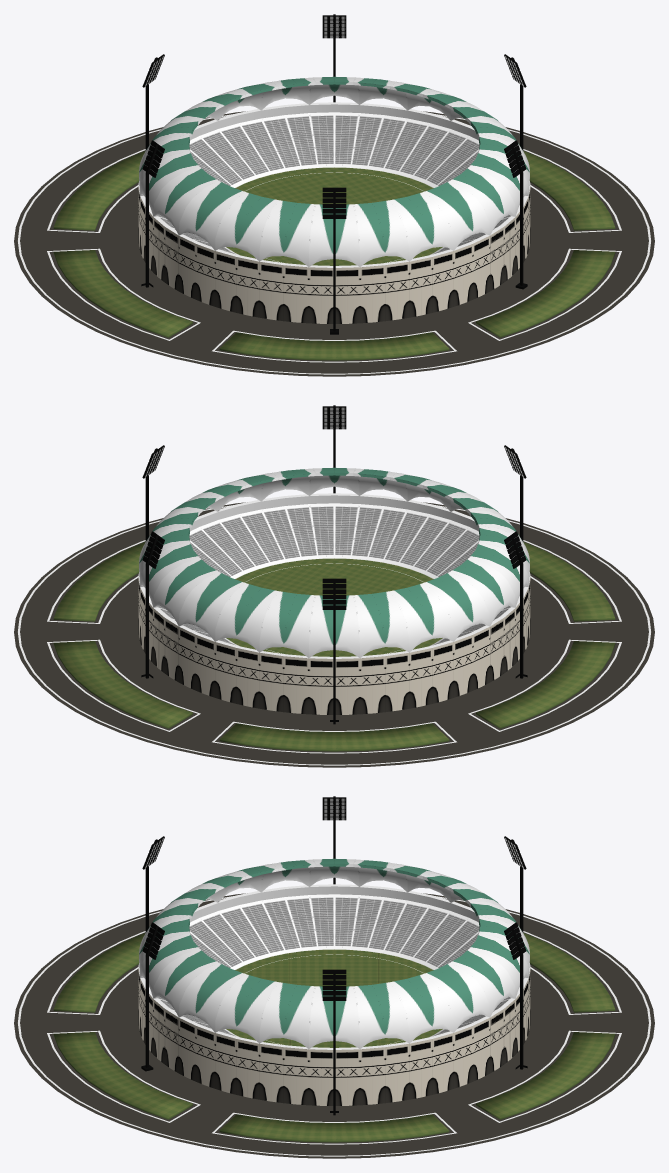
File: Stadium.fbx
3 views of the same model, one above another, from view 1: azimuth 30°, elevation 25°; view 2: azimuth 150°, elevation 25°; view 3: azimuth 270°, elevation 25° (orthographic).
Parts seen in each view (by area): view 1: Ekana Stadium.426, Ekana Stadium.139, Ekana Stadium.405, Ekana Stadium.412, Ekana Stadium.414, Ekana Stadium.415, Ekana Stadium.413, Ekana Stadium.416, Ekana Stadium.060, Ekana Stadium.068, Ekana Stadium.056, Ekana Stadium.072 (+26 smaller); view 2: Ekana Stadium.426, Ekana Stadium.139, Ekana Stadium.405, Ekana Stadium.413, Ekana Stadium.415, Ekana Stadium.417, Ekana Stadium.412, Ekana Stadium.416, Ekana Stadium.028, Ekana Stadium.036, Ekana Stadium.024, Ekana Stadium.040 (+26 smaller); view 3: Ekana Stadium.426, Ekana Stadium.139, Ekana Stadium.405, Ekana Stadium.416, Ekana Stadium.414, Ekana Stadium.417, Ekana Stadium.412, Ekana Stadium.413, Ekana Stadium.004, Ekana Stadium.092, Ekana Stadium.008, Ekana Stadium.088 (+26 smaller).
Part boxes in pixels (box(x1,y1,x2,y2)): Ekana Stadium.426: box(14, 111, 654, 376); Ekana Stadium.139: box(138, 186, 530, 323); Ekana Stadium.405: box(226, 167, 442, 265); Ekana Stadium.412: box(219, 332, 449, 360); Ekana Stadium.414: box(476, 250, 615, 337); Ekana Stadium.415: box(53, 250, 192, 337); Ekana Stadium.413: box(53, 151, 145, 230); Ekana Stadium.416: box(523, 151, 615, 230); Ekana Stadium.060: box(259, 200, 315, 266); Ekana Stadium.068: box(353, 200, 409, 266); Ekana Stadium.056: box(215, 192, 278, 260); Ekana Stadium.072: box(390, 192, 453, 260); Ekana Stadium.426: box(14, 502, 654, 767); Ekana Stadium.139: box(138, 577, 530, 714); Ekana Stadium.405: box(226, 558, 442, 656); Ekana Stadium.413: box(219, 723, 449, 751); Ekana Stadium.415: box(476, 641, 615, 728); Ekana Stadium.417: box(53, 641, 192, 728); Ekana Stadium.412: box(523, 542, 615, 621); Ekana Stadium.416: box(53, 542, 145, 621); Ekana Stadium.028: box(259, 591, 315, 657); Ekana Stadium.036: box(353, 591, 409, 657); Ekana Stadium.024: box(215, 583, 278, 651); Ekana Stadium.040: box(390, 583, 453, 651); Ekana Stadium.426: box(14, 893, 654, 1158); Ekana Stadium.139: box(138, 968, 530, 1105); Ekana Stadium.405: box(226, 949, 442, 1047); Ekana Stadium.416: box(219, 1114, 449, 1142); Ekana Stadium.414: box(53, 1032, 192, 1119); Ekana Stadium.417: box(476, 1032, 615, 1119); Ekana Stadium.412: box(53, 933, 145, 1012); Ekana Stadium.413: box(523, 933, 615, 1012); Ekana Stadium.004: box(353, 982, 409, 1048); Ekana Stadium.092: box(259, 982, 315, 1048); Ekana Stadium.008: box(390, 974, 453, 1042); Ekana Stadium.088: box(215, 974, 278, 1042).
Size of the model in its own units: 327 by 78.92 by 327.
